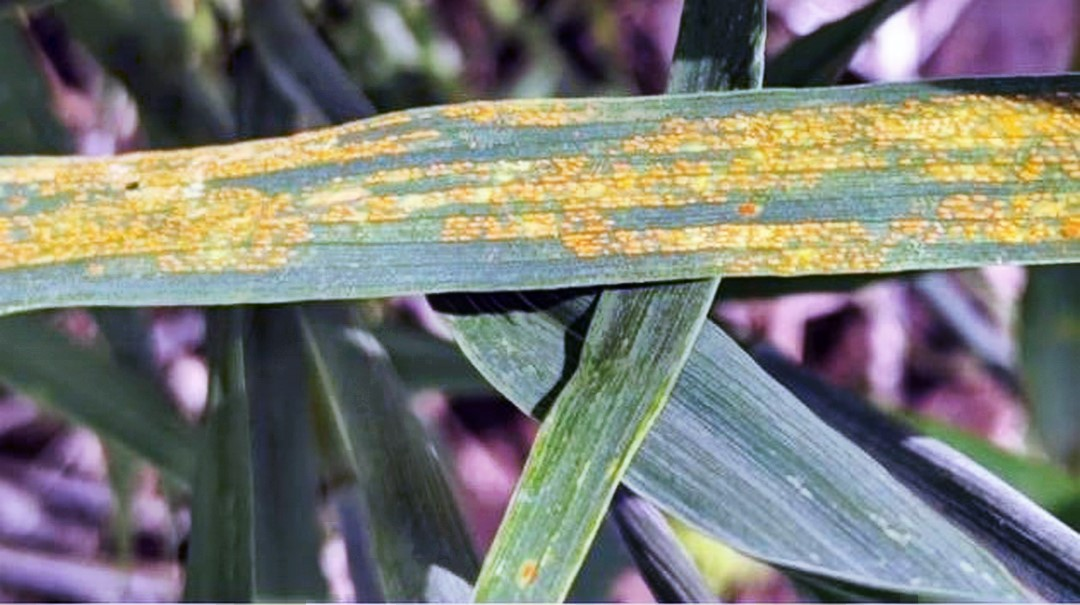Leaf Rust: (20, 59, 1056, 294)
